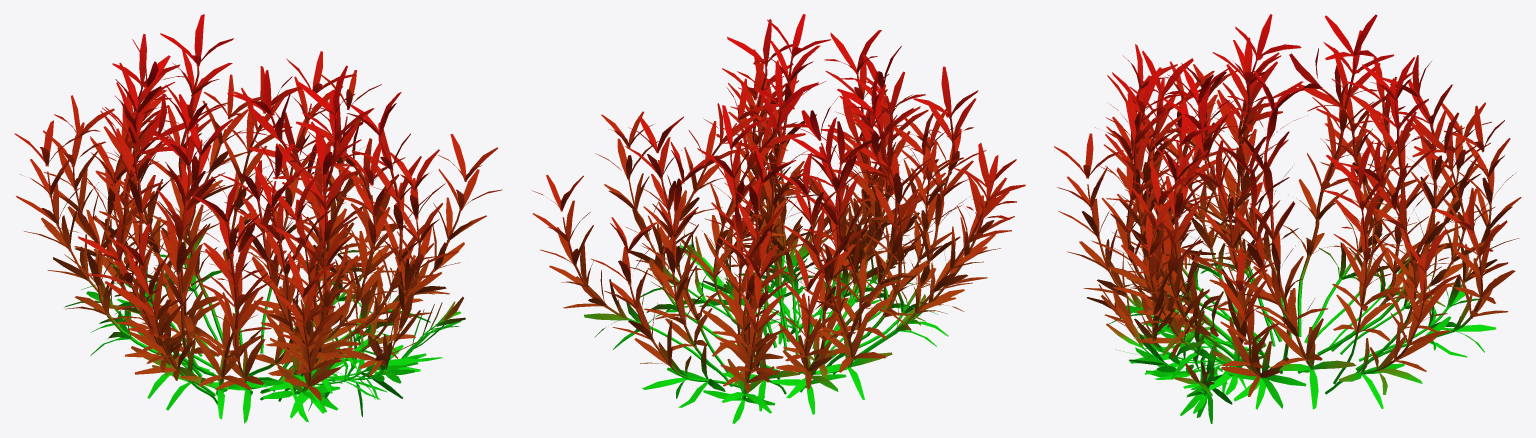
File: Var8_LOD2.fbx
3 renders of one model, left to right at view 1: azimuth 30°, elevation 25°; view 2: azimuth 150°, elevation 25°; view 3: azimuth 270°, elevation 25°, orthographic. The views are drawn at different scales.
Visible parts, largest first — view 1: _ryem_Var8_LOD2; view 2: _ryem_Var8_LOD2; view 3: _ryem_Var8_LOD2.
Part boxes in pixels (bbox=[...]): _ryem_Var8_LOD2: bbox=[14, 14, 502, 423]; _ryem_Var8_LOD2: bbox=[532, 14, 1025, 423]; _ryem_Var8_LOD2: bbox=[1054, 14, 1521, 423].
Size of the model in its own units: 38.31 by 29.77 by 37.12.
